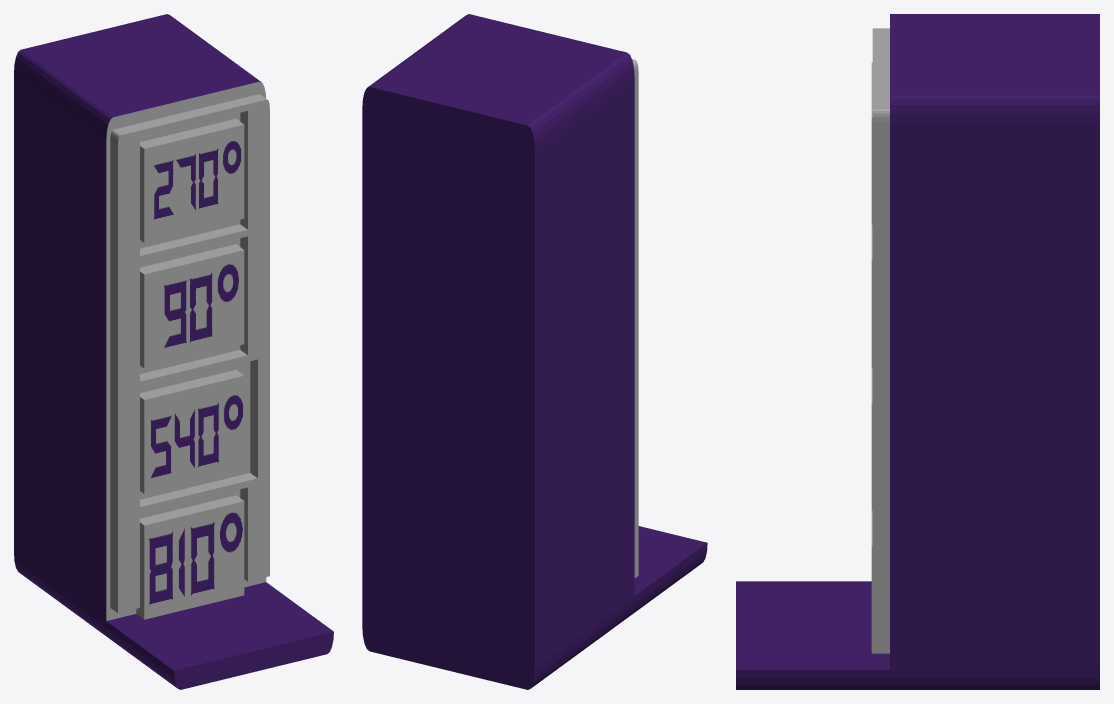
Rendered from Hint_Rack.fbx.
3 views of the same model, side by side, from view 1: azimuth 30°, elevation 25°; view 2: azimuth 150°, elevation 25°; view 3: azimuth 270°, elevation 25° (orthographic). The views are drawn at different scales.
Parts seen in each view (by area): view 1: ship_material; view 2: ship_material; view 3: ship_material.
Boxes of the visible parts, x1=… form: ship_material: x1=14, y1=14, x2=333, y2=689; ship_material: x1=362, y1=14, x2=707, y2=689; ship_material: x1=736, y1=14, x2=1099, y2=689.
Bounding box in the file's own units: 100 × 312 × 173.
